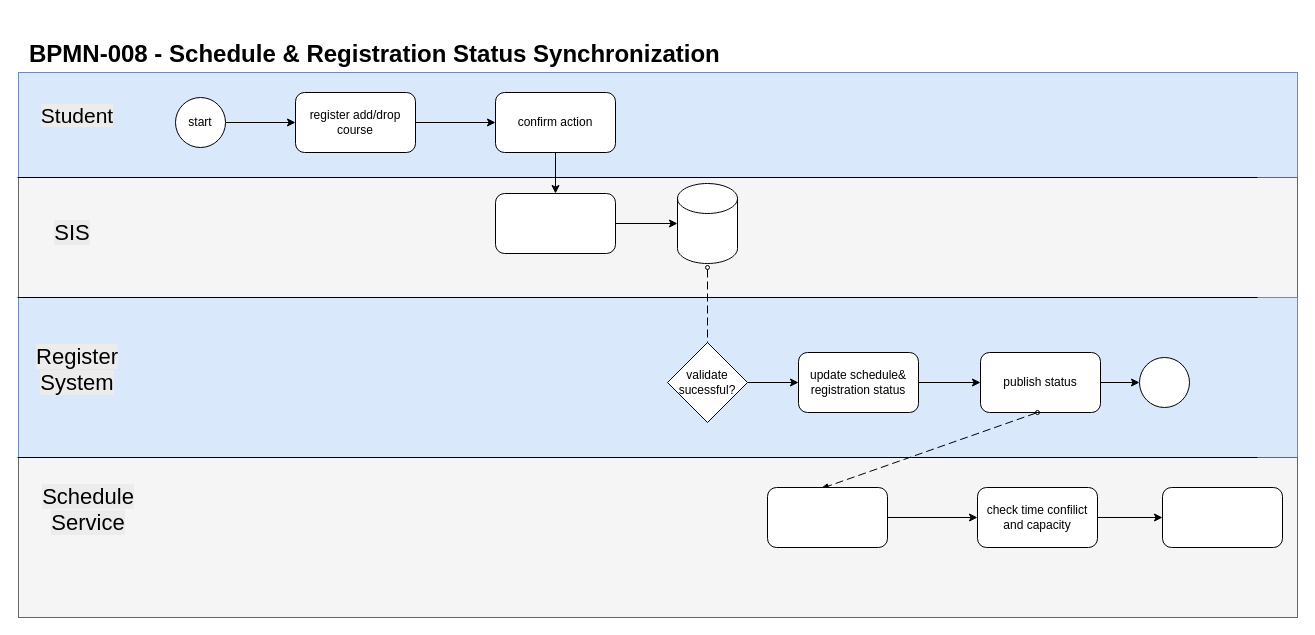
The diagram is 1315 pixels wide and 635 high, and some of its shapes have lost their labels. The shapes that lost their labels are listed below. From the top down, each one's centre as x and y in pixels, then its label:
At pixel 555 223: "update registration record".
At pixel 1164 382: "end".
At pixel 827 517: "recalculate student schdule".
At pixel 1222 517: "update section availability and waitlist".
